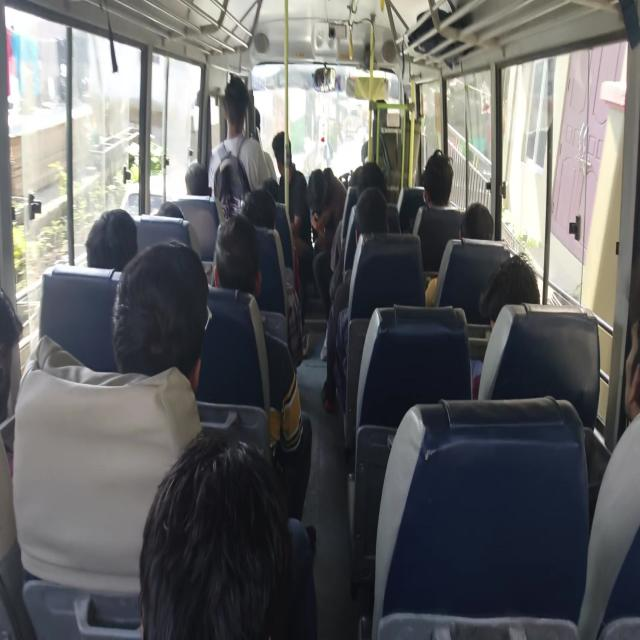person: (162, 460, 297, 640), (122, 263, 211, 361), (0, 274, 40, 442), (79, 213, 138, 280), (491, 264, 539, 327), (217, 220, 255, 292), (466, 202, 510, 255), (219, 82, 264, 131), (432, 152, 462, 216), (360, 194, 391, 252), (185, 159, 223, 206), (269, 130, 299, 178), (154, 202, 191, 238), (240, 187, 274, 218), (363, 160, 388, 198), (308, 171, 326, 200), (421, 163, 436, 189)
